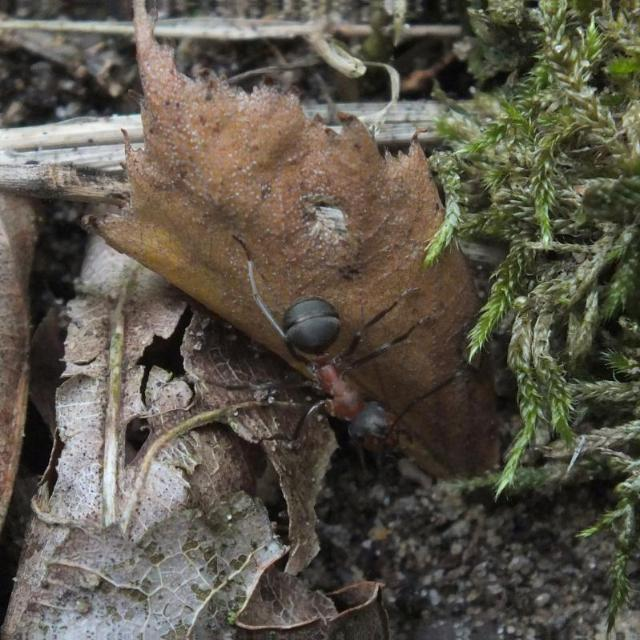Formica: (271, 270, 431, 470)
